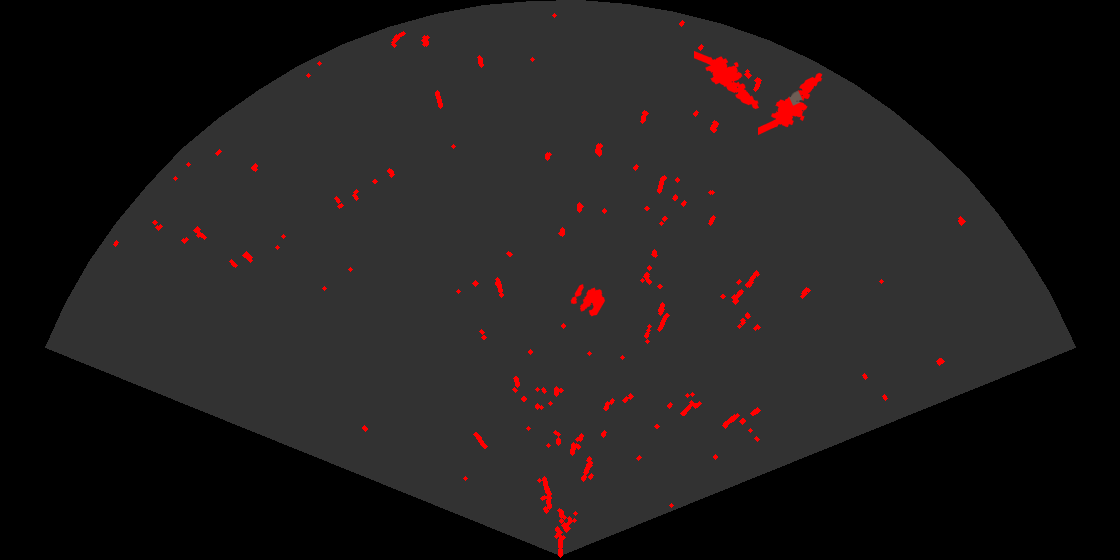ball: (569, 282, 607, 318)
frogman: (758, 71, 824, 137), (694, 49, 761, 111)
